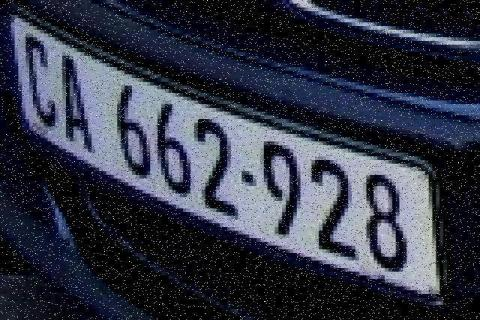LicensePlate: (5, 1, 455, 309)
